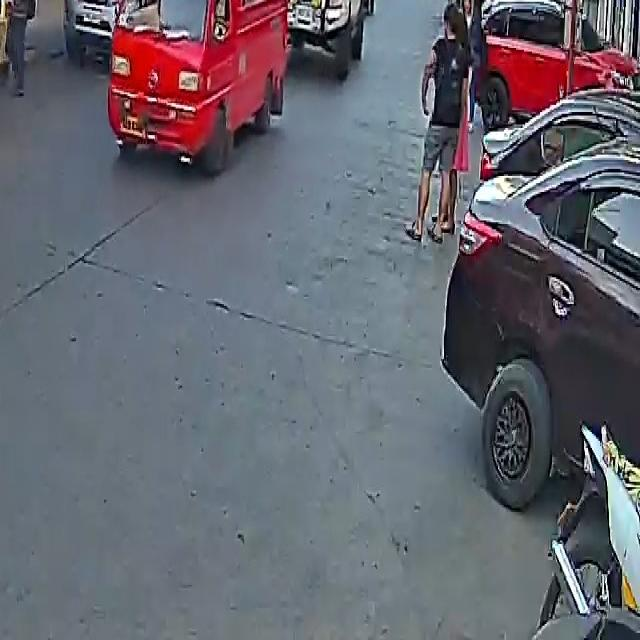car: (443, 78, 640, 523), (468, 0, 637, 130), (289, 0, 372, 78), (62, 0, 151, 64)
